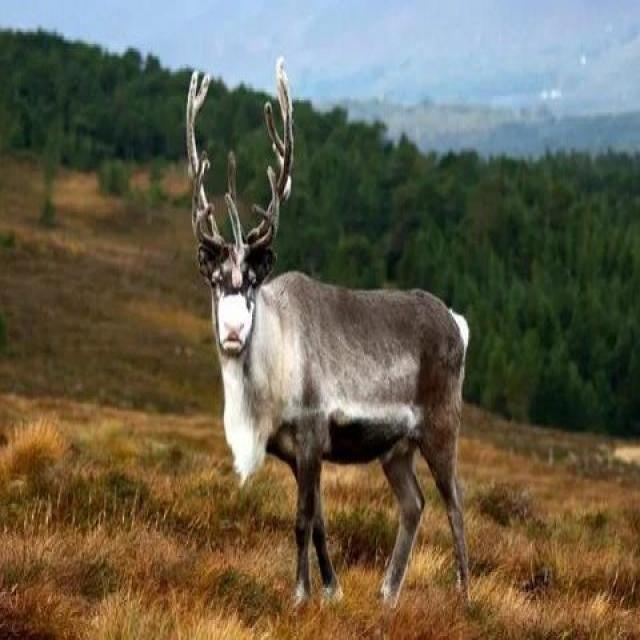deer: (185, 127, 464, 624)
